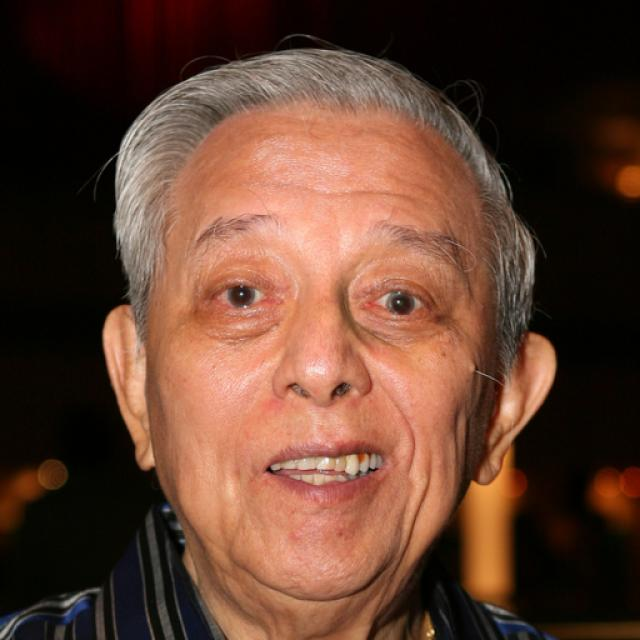Dark Circle: (201, 305, 280, 341), (356, 311, 440, 344)
Wrinkle: (396, 454, 433, 560), (274, 178, 421, 203), (384, 384, 418, 478)
